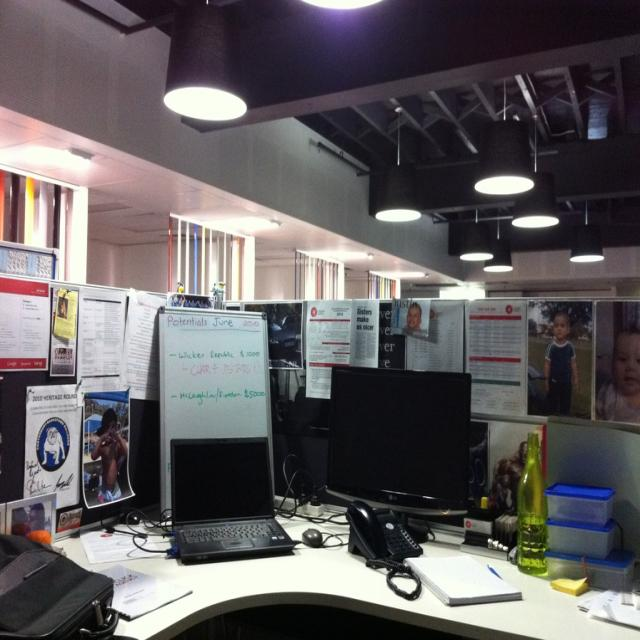desk: (0, 498, 639, 639)
keyboard: (180, 519, 290, 547)
laptop: (170, 437, 296, 561)
mouse: (303, 528, 323, 547)
person: (595, 331, 640, 424), (544, 314, 580, 416)
tv: (323, 366, 471, 516)
